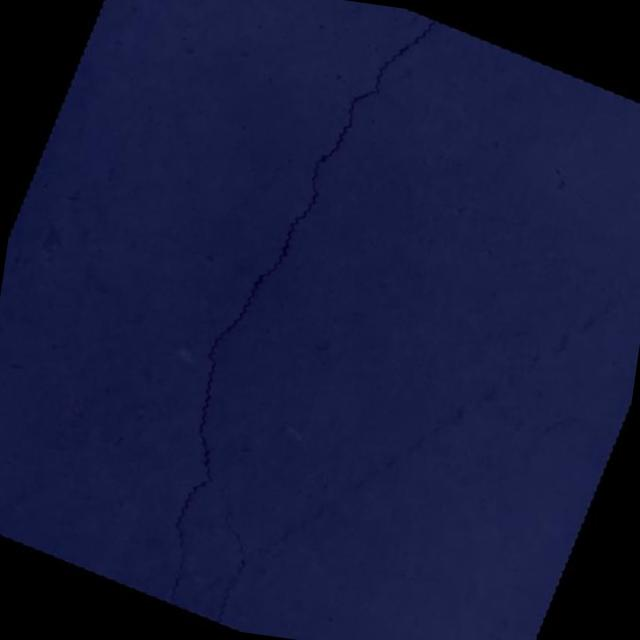crack: (108, 0, 435, 637), (185, 498, 266, 628)
